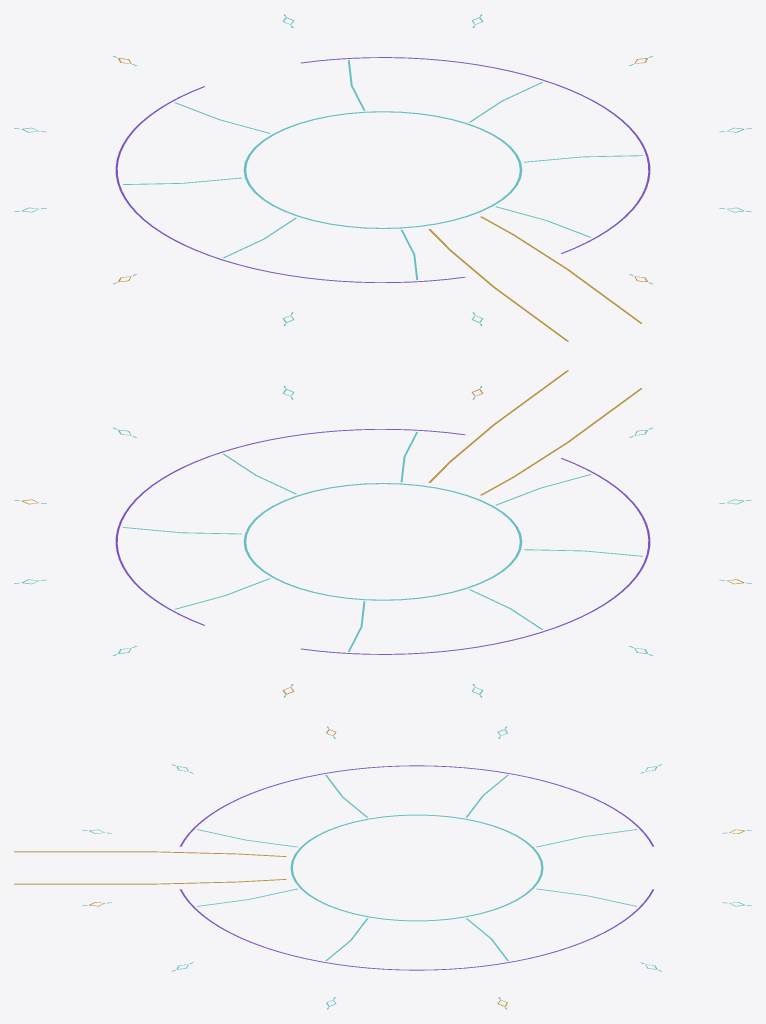
Rendered from praca_energia.fbx.
3 renders of one model, top to bottom at view 1: azimuth 30°, elevation 25°; view 2: azimuth 150°, elevation 25°; view 3: azimuth 270°, elevation 25°, orthographic. The views are drawn at different scales.
Visible parts, largest first — view 1: praca_energia; view 2: praca_energia; view 3: praca_energia.
Part boxes in pixels (x1,y1,x2,y2): praca_energia: (14, 14, 751, 341); praca_energia: (14, 370, 751, 697); praca_energia: (14, 726, 751, 1009).
Size of the model in its own units: 74.8 by 3.6e-06 by 82.4.
